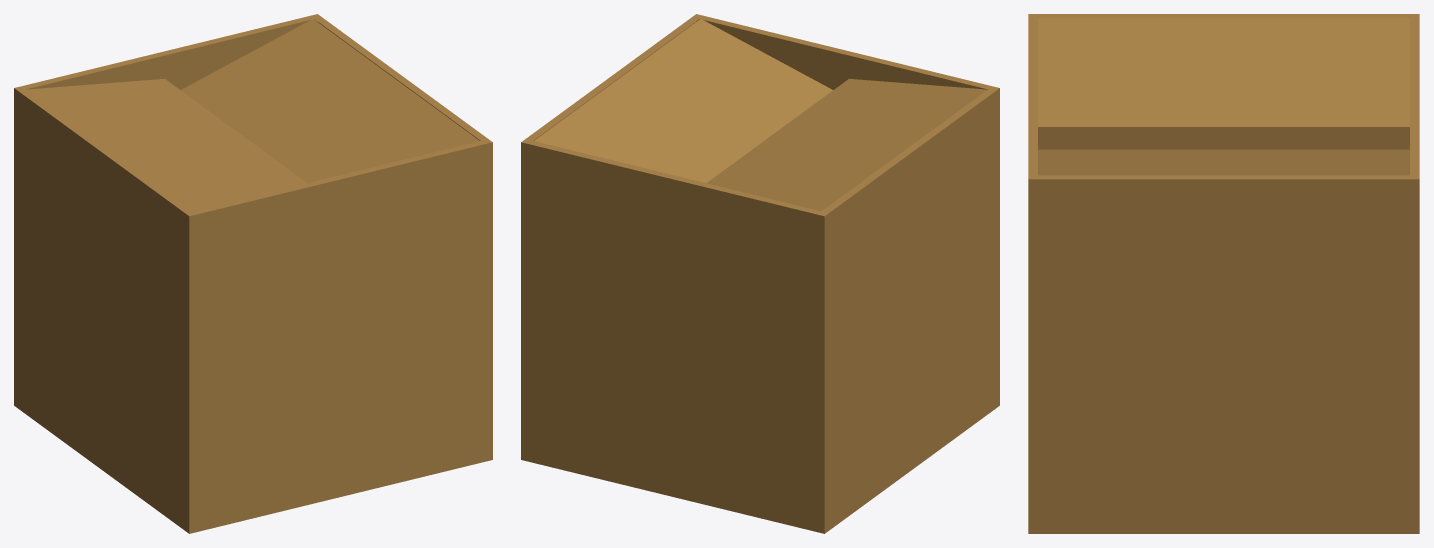
3 views of the same model, side by side, from view 1: azimuth 30°, elevation 25°; view 2: azimuth 150°, elevation 25°; view 3: azimuth 270°, elevation 25° (orthographic). The views are drawn at different scales.
Parts seen in each view (by area): view 1: Cube; view 2: Cube; view 3: Cube.
Boxes of the visible parts, x1,y1,x2,y2 form: Cube: [14, 14, 492, 533]; Cube: [521, 14, 999, 533]; Cube: [1028, 14, 1419, 533].
Size of the model in its own units: 2 by 2 by 2.
